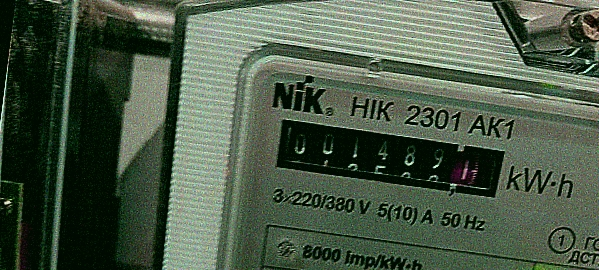0: (318, 129, 337, 156), (291, 129, 309, 156)
1: (346, 131, 364, 162), (457, 151, 472, 183)
4: (373, 136, 393, 164)
8: (399, 139, 419, 168)
9: (428, 145, 446, 171)
screen: (258, 106, 522, 213)
